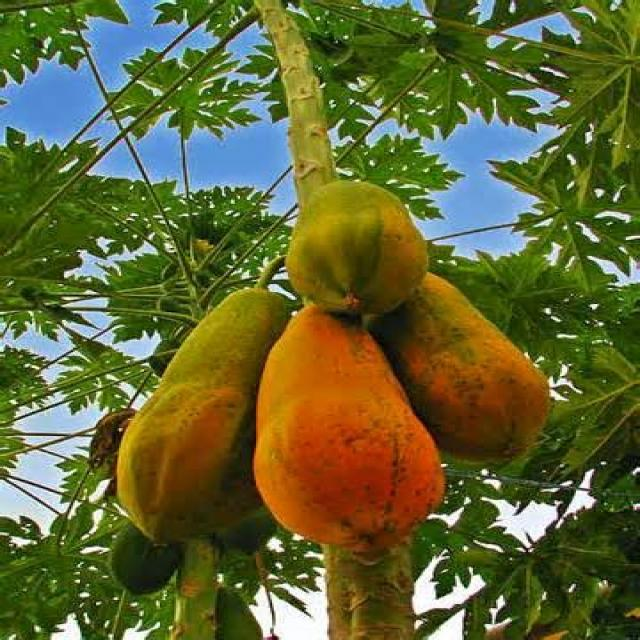Pepaya rippen: (252, 312, 448, 557), (108, 284, 286, 549), (412, 297, 556, 471), (295, 183, 425, 309)
